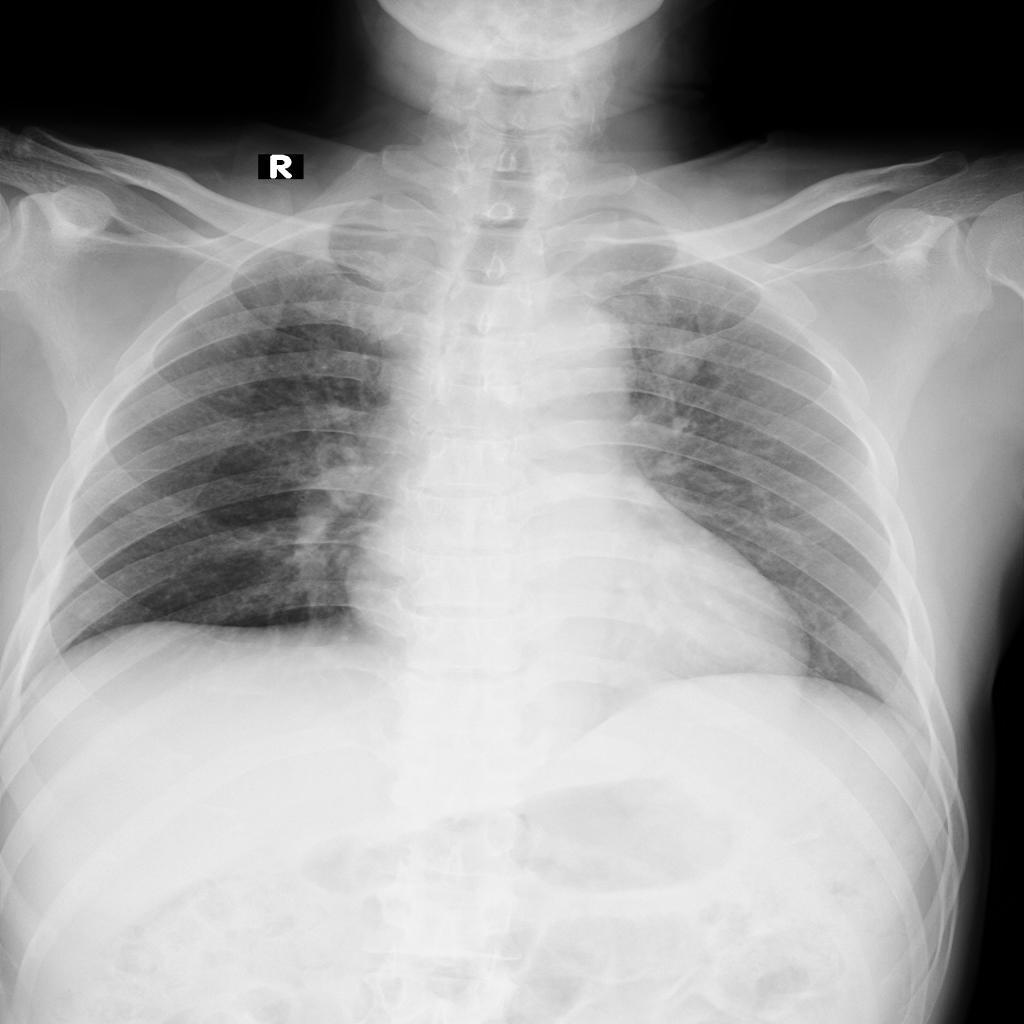Nodule: (653, 329, 706, 381)
